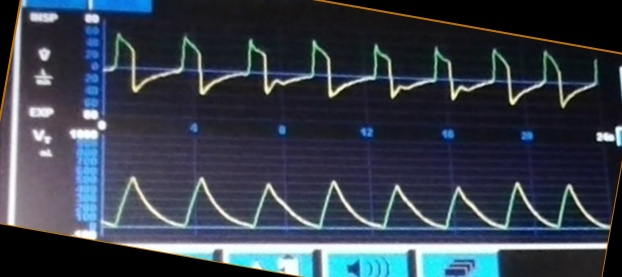Premature_cycling Flow: (106, 32, 599, 114)
Premature_cycling Volume: (106, 164, 607, 237)
